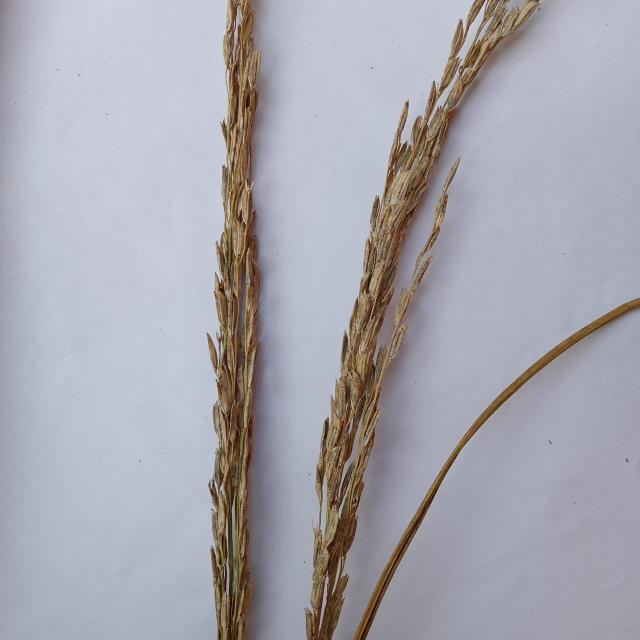Neck_Blast: (310, 4, 521, 640), (214, 0, 257, 638)
